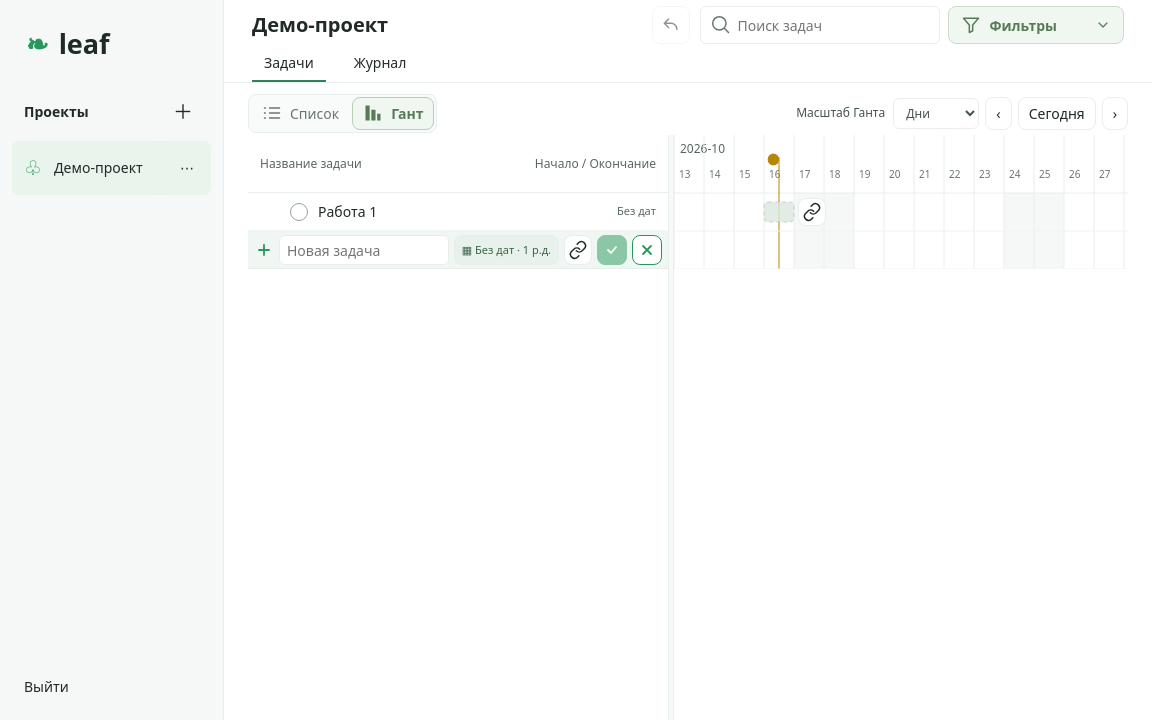
names the task tab Ход работы, retains project Журнал and starts with two rows
expect the heading "Демо-проект" is shown: met, box [252,11,388,38]
Click the list item with aria-label "Работа 1,". click: (458, 212)
box: [248,193,668,231]
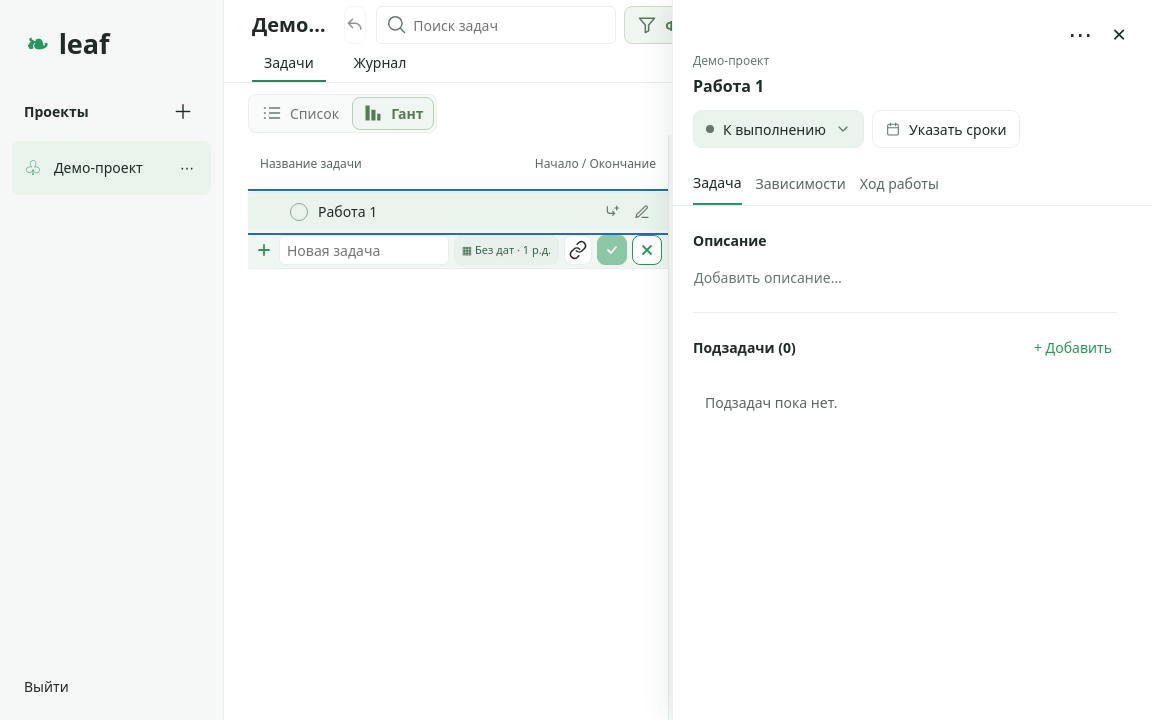
Click the tab "Ход работы". click: (899, 184)
box: [860,162,939,205]
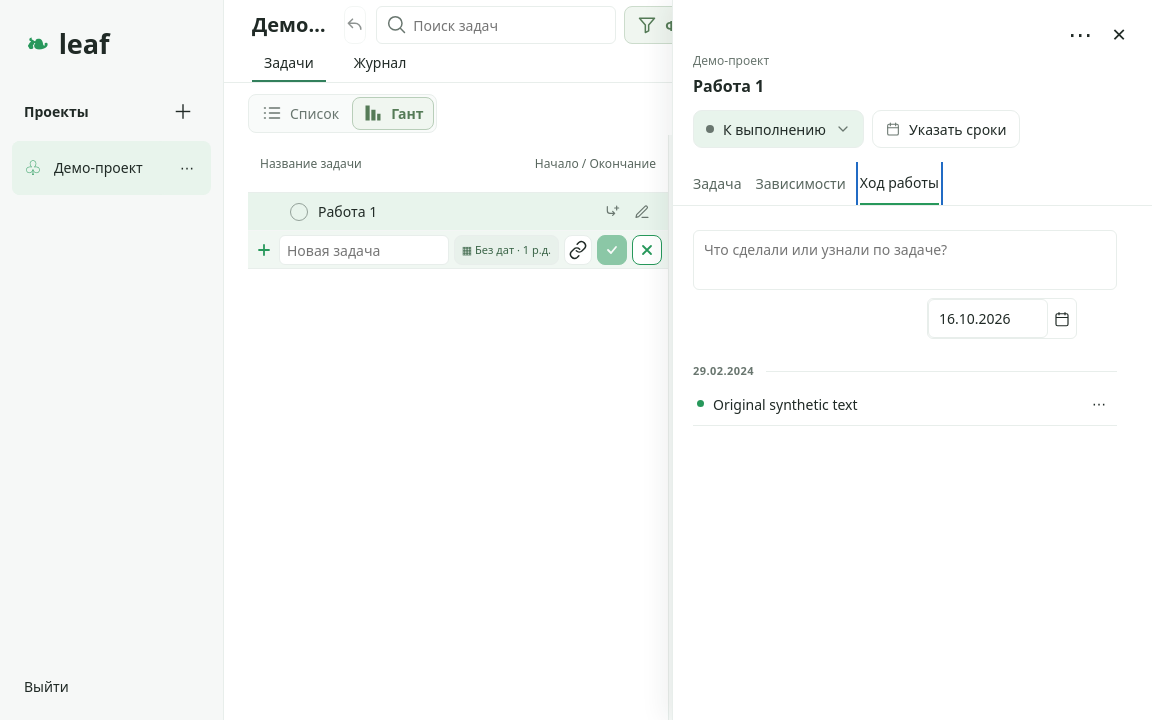
expect the tab "Журнал" is shown: met, box [342,44,418,82]
expect the tab "Ход работы" is shown: met, box [860,162,939,205]
expect the text box named "Текст записи" is enabled: met, box [693,230,1117,290]
